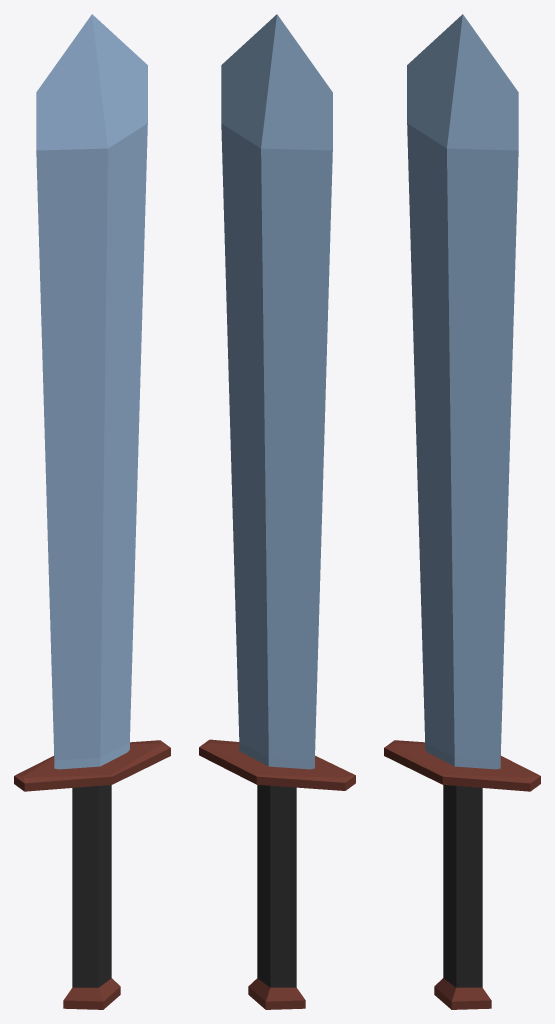
File: меч.fbx
3 views of the same model, side by side, from view 1: azimuth 30°, elevation 25°; view 2: azimuth 150°, elevation 25°; view 3: azimuth 330°, elevation 25° (orthographic).
Visible parts, largest first — view 1: Cube; view 2: Cube; view 3: Cube.
Part boxes in pixels (left/top/right/bottom): Cube: left=14, top=14, right=170, bottom=1009; Cube: left=199, top=14, right=355, bottom=1009; Cube: left=384, top=14, right=540, bottom=1009.
Bounding box in the file's own units: 180 × 1160 × 86.19.
